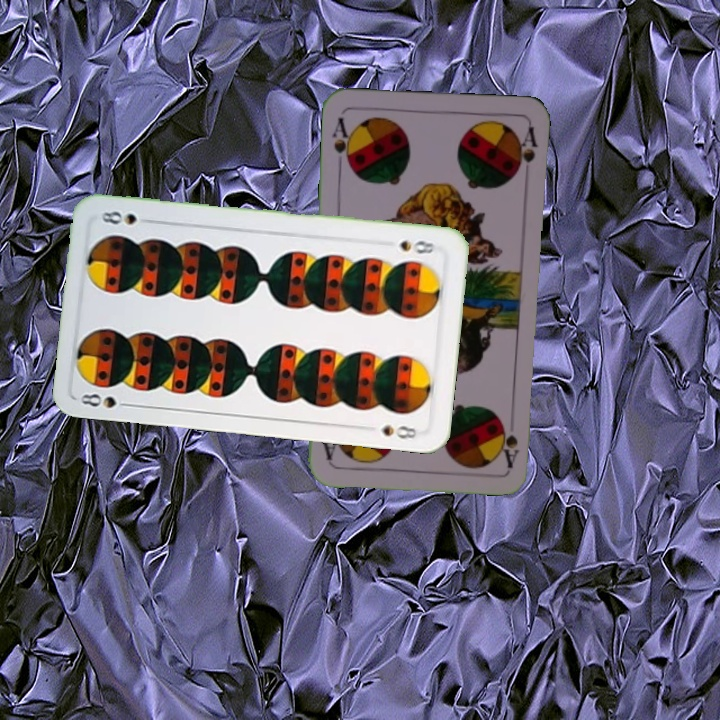S8: (76, 389, 135, 411), (396, 236, 443, 257)
SA: (328, 113, 355, 172), (499, 420, 522, 470)
